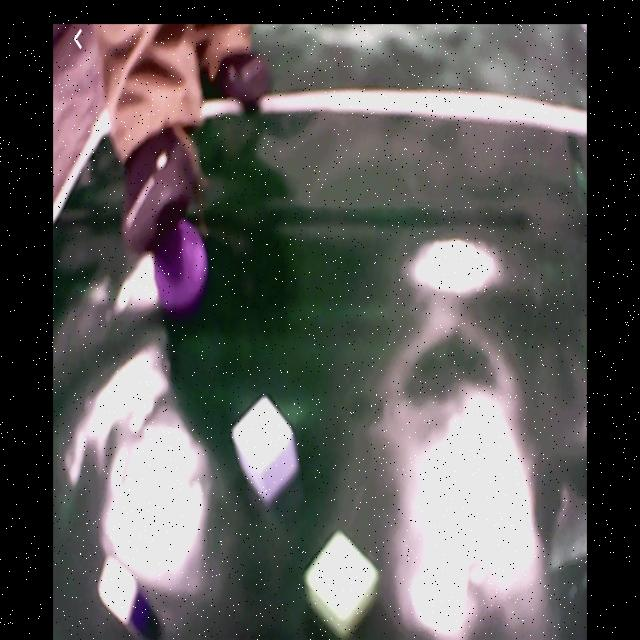ball: (153, 220, 208, 309)
